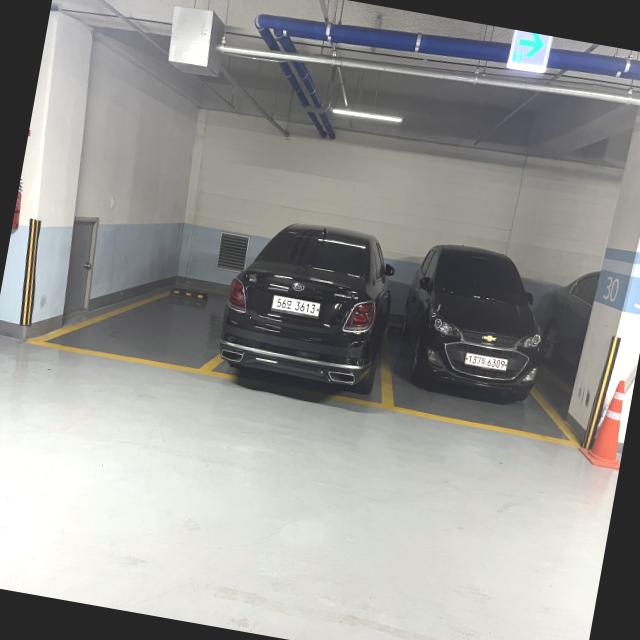car: (377, 243, 600, 450), (230, 231, 408, 405)
free: (72, 253, 247, 379)
